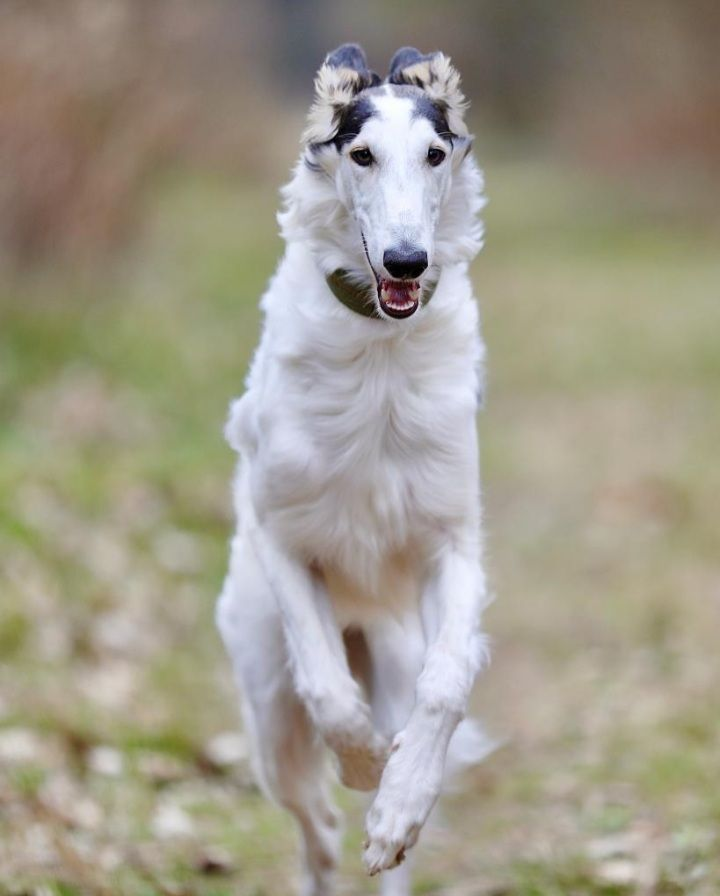borzoi: (161, 39, 547, 886)
